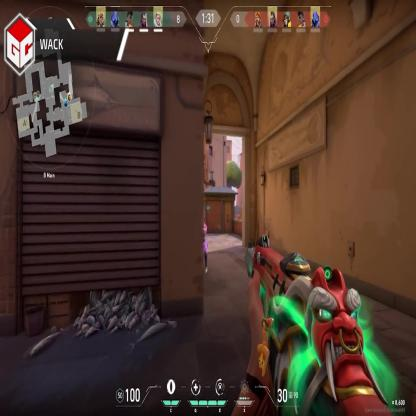enemy: (193, 209, 209, 278)
enemy_head: (198, 212, 205, 226)
